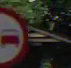No overtake: (1, 3, 39, 64)
